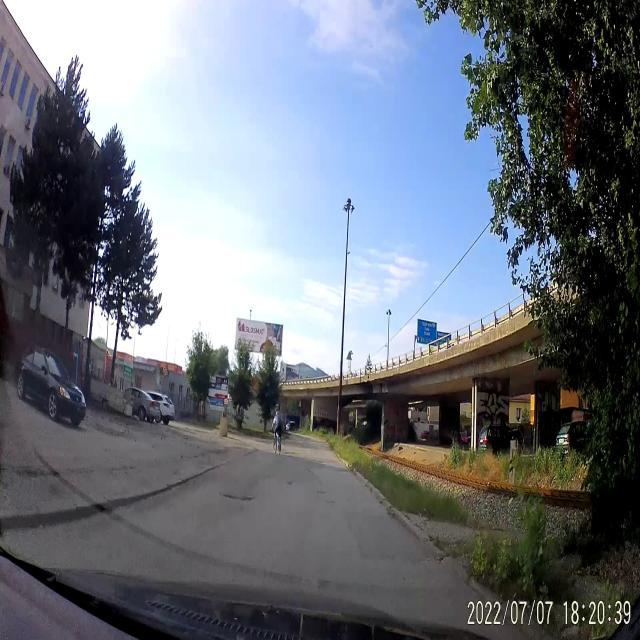Pothole: (222, 484, 258, 514)
